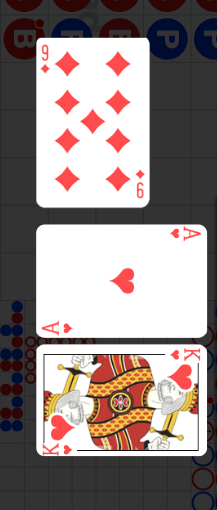9D: (40, 44, 51, 75)
AH: (167, 226, 201, 243)
KH: (41, 443, 74, 456)
